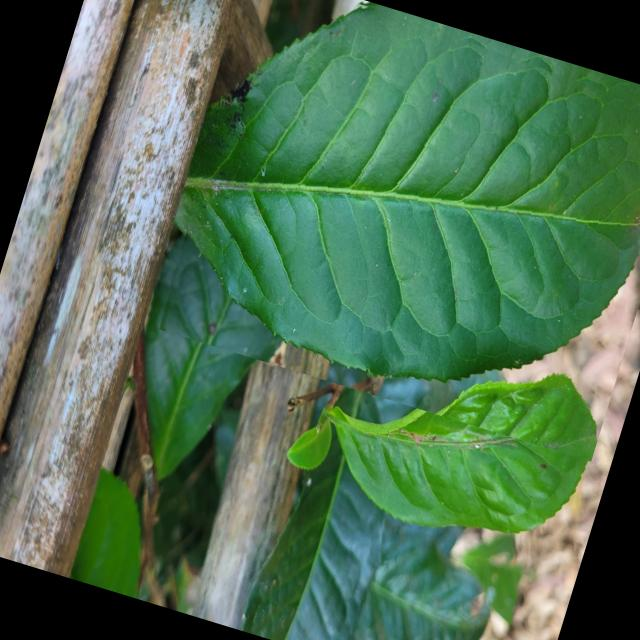Category D(7+ days, Not for Tea): (150, 0, 640, 460)
